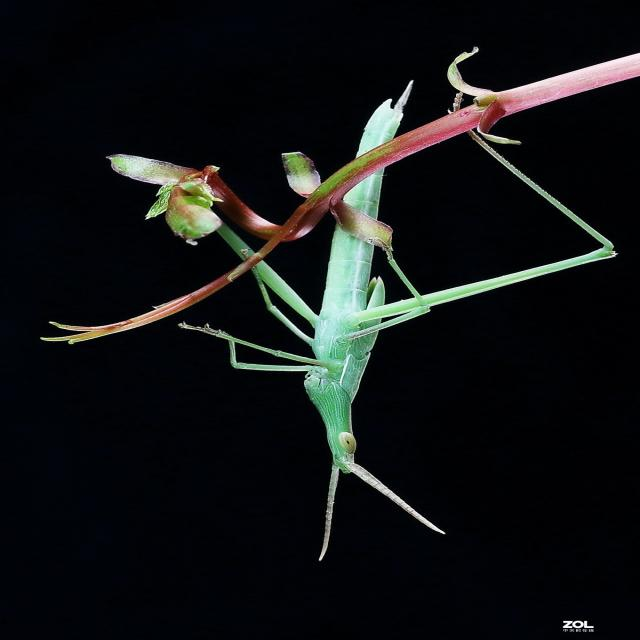ZhaMeng: (220, 57, 574, 569)
